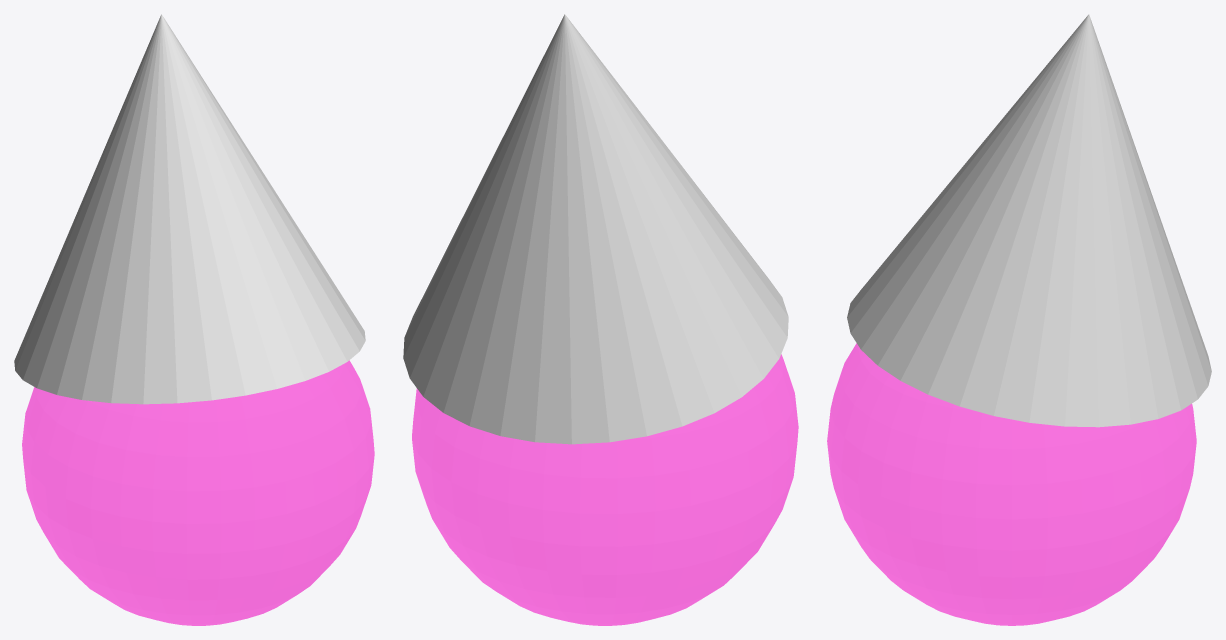
The picture shows the model from 3 angles, left to right: view 1: azimuth 30°, elevation 25°; view 2: azimuth 150°, elevation 25°; view 3: azimuth 270°, elevation 25°; orthographic projection. The views are drawn at different scales.
Parts seen in each view (by area): view 1: Cone, Sphere; view 2: Cone, Sphere; view 3: Cone, Sphere.
Boxes of the visible parts, left/top/right/bottom form: Cone: left=14, top=14, right=365, bottom=404; Sphere: left=22, top=360, right=374, bottom=625; Cone: left=403, top=14, right=788, bottom=444; Sphere: left=412, top=354, right=798, bottom=625; Cone: left=847, top=14, right=1211, bottom=427; Sphere: left=827, top=343, right=1196, bottom=625.
Size of the model in its own units: 1 by 1.78 by 1.04.
